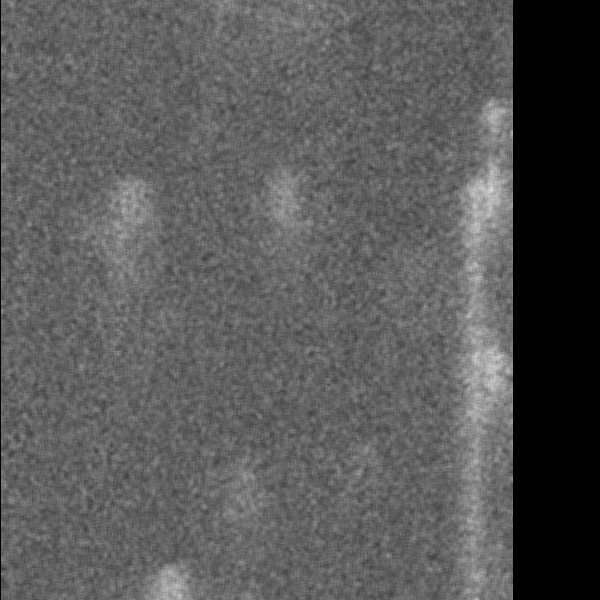spark: (106, 170, 147, 347), (267, 149, 297, 260), (475, 97, 513, 155)
